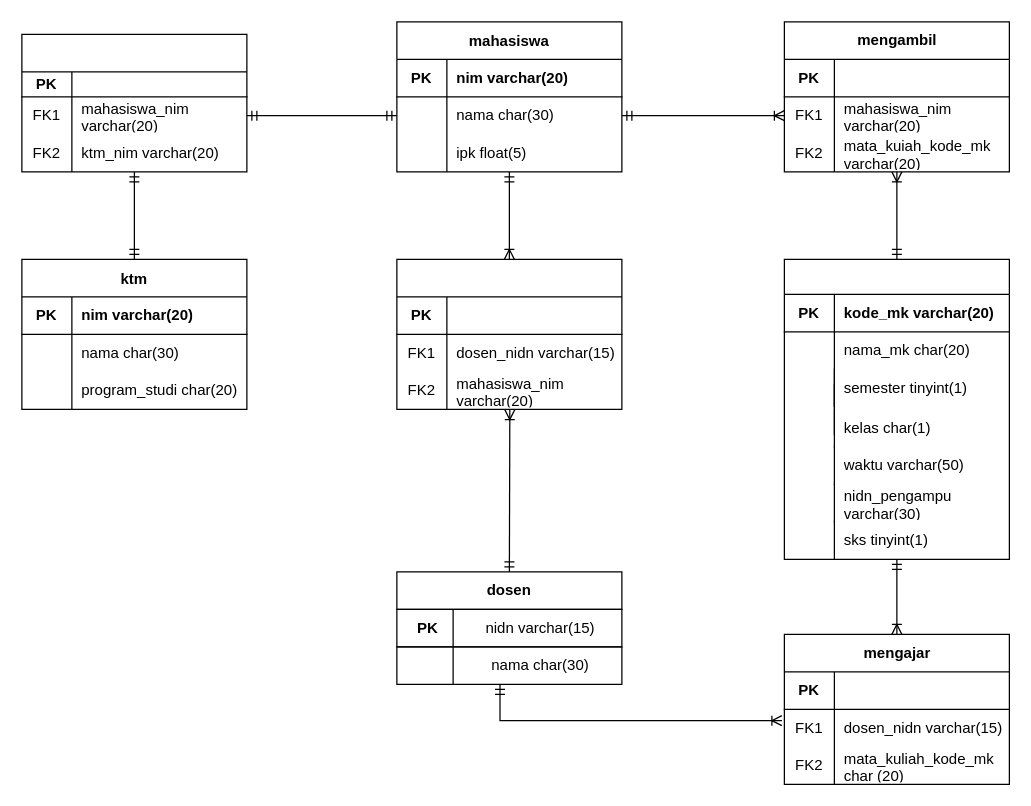
Image size: 1031x806. Some labels were removed from this diagram. The shapes that lost their labels are listed below. From the top down, each one's box as (x1, y1, x2, y2) in pixels, then its label:
(21, 33, 247, 172): memiliki
(396, 258, 622, 409): membimbing
(783, 258, 1009, 559): mata_kuliah
